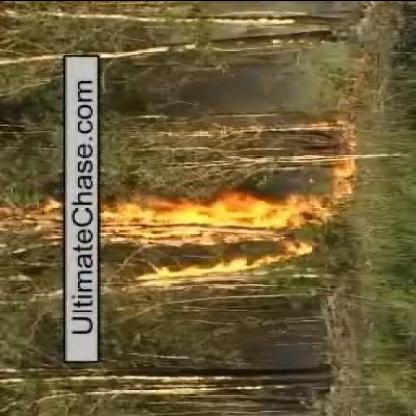foggia-v2-map80-epoch100 - v1 4323: (100, 180, 336, 283)
